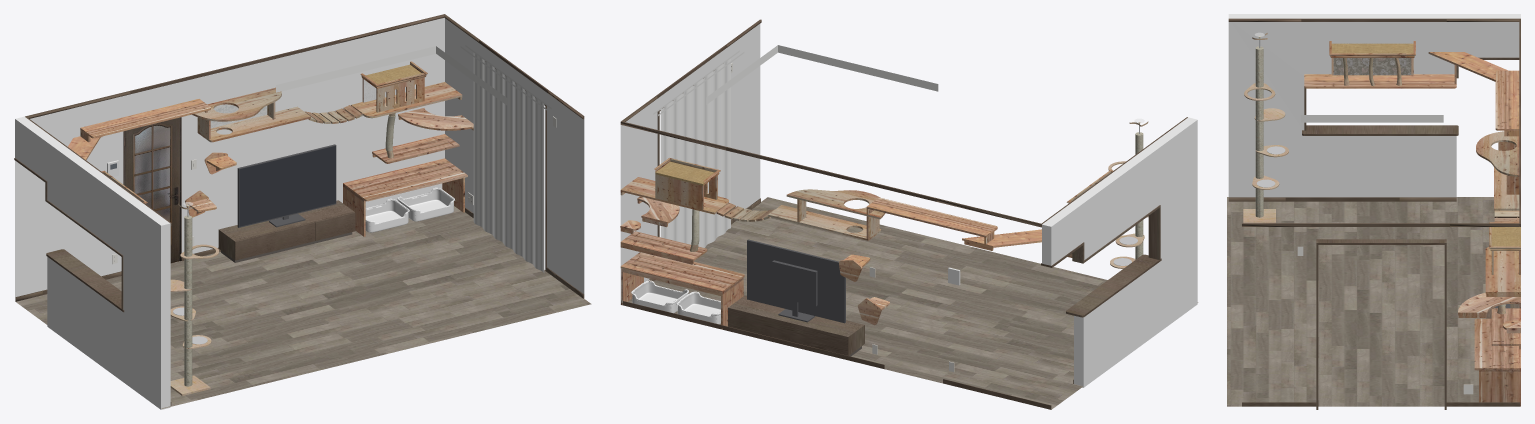
3 views of the same model, side by side, from view 1: azimuth 30°, elevation 25°; view 2: azimuth 150°, elevation 25°; view 3: azimuth 270°, elevation 25° (orthographic).
Visible parts, largest first — view 1: 部屋, カーテン_レース; view 2: 部屋, カーテン_レース; view 3: 部屋.
Boxes of the visible parts, box(x1,y1,x2,y2) form: 部屋: box(14, 14, 591, 409); カーテン_レース: box(473, 53, 544, 273); 部屋: box(620, 19, 1198, 409); カーテン_レース: box(660, 58, 730, 247); 部屋: box(1227, 14, 1520, 409).
Size of the model in its own units: 6.01 by 2.52 by 3.5.
31 materials, 15 textured.
